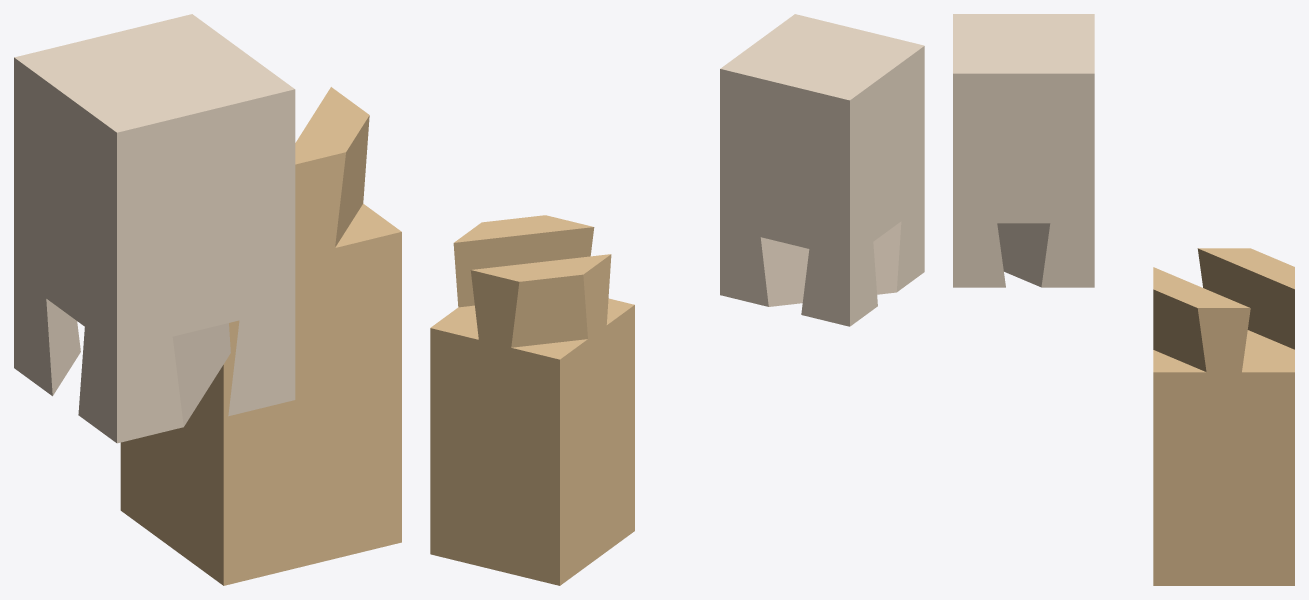
3 views of the same model, side by side, from view 1: azimuth 30°, elevation 25°; view 2: azimuth 150°, elevation 25°; view 3: azimuth 270°, elevation 25° (orthographic). The views are drawn at different scales.
Bounding box in the file's own units: 0.4 × 0.5517 × 0.4.
